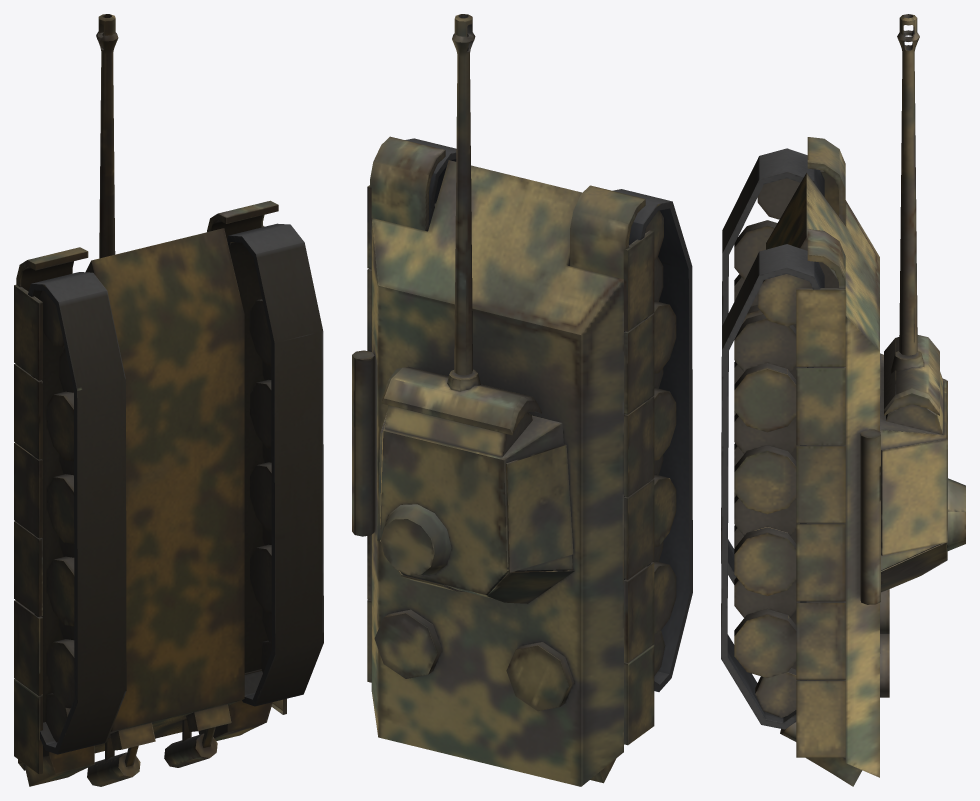
Rendered from Panther.fbx.
3 renders of one model, left to right at view 1: azimuth 30°, elevation 25°; view 2: azimuth 150°, elevation 25°; view 3: azimuth 270°, elevation 25°, orthographic. The views are drawn at different scales.
Visible parts, largest first — view 1: PantherG Body, PantherG Turret; view 2: PantherG Body, PantherG Turret; view 3: PantherG Body, PantherG Turret.
Boxes of the visible parts, x1,y1,x2,y2 form: PantherG Body: (14, 200, 323, 786); PantherG Turret: (96, 14, 118, 258); PantherG Body: (352, 136, 692, 786); PantherG Turret: (377, 14, 574, 603); PantherG Body: (721, 137, 889, 786); PantherG Turret: (880, 14, 965, 592).
Size of the model in its own units: 133 by 378 by 115.
